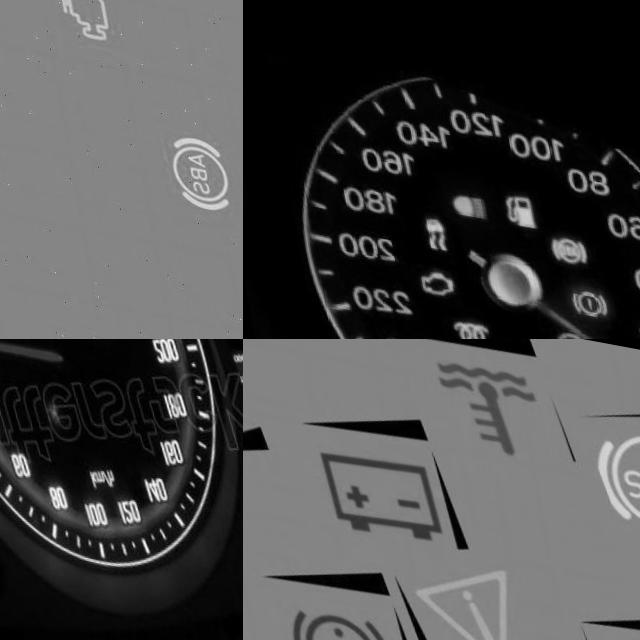Low fuel level: (492, 174, 534, 220)
